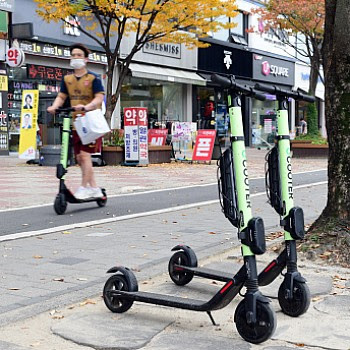scooter: (106, 74, 276, 341), (49, 105, 106, 211)
